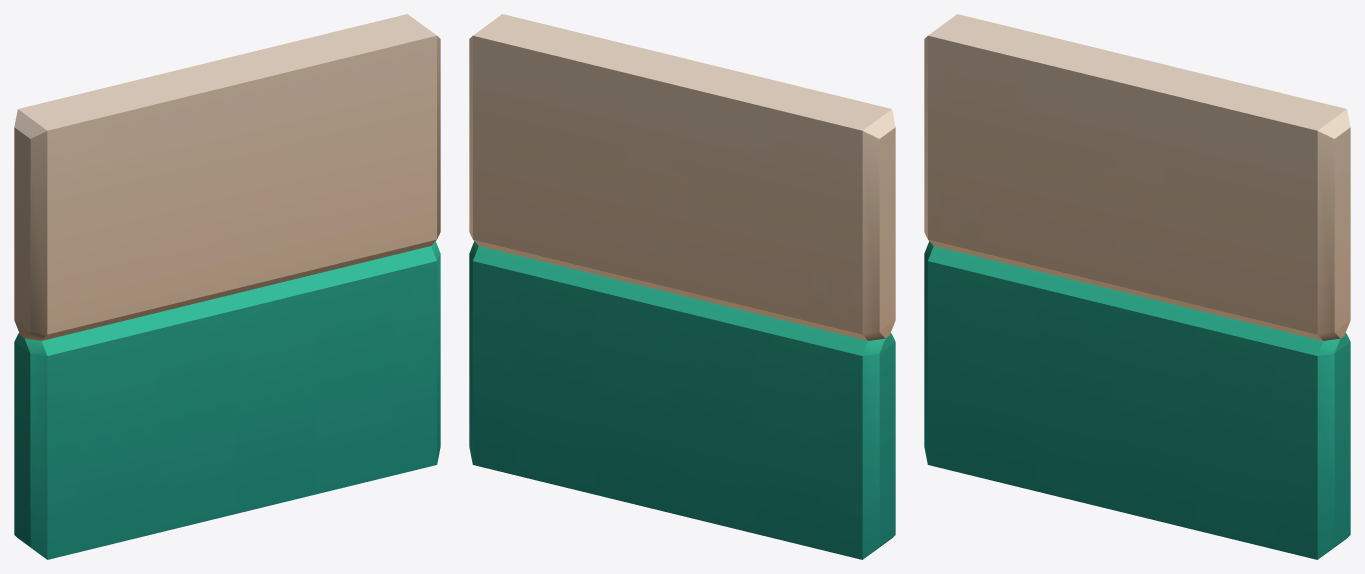
The model's file is kaykit-restaurant-bits-wall.glb.
3 views of the same model, side by side, from view 1: azimuth 30°, elevation 25°; view 2: azimuth 150°, elevation 25°; view 3: azimuth 330°, elevation 25° (orthographic).
Parts seen in each view (by area): view 1: wall; view 2: wall; view 3: wall.
Part boxes in pixels (left/top/right/bottom): wall: left=14, top=14, right=440, bottom=559; wall: left=469, top=14, right=895, bottom=559; wall: left=924, top=14, right=1350, bottom=559.
Bounding box in the file's own units: 4 × 4 × 0.5.
Materials: 1 (1 with a texture image).
